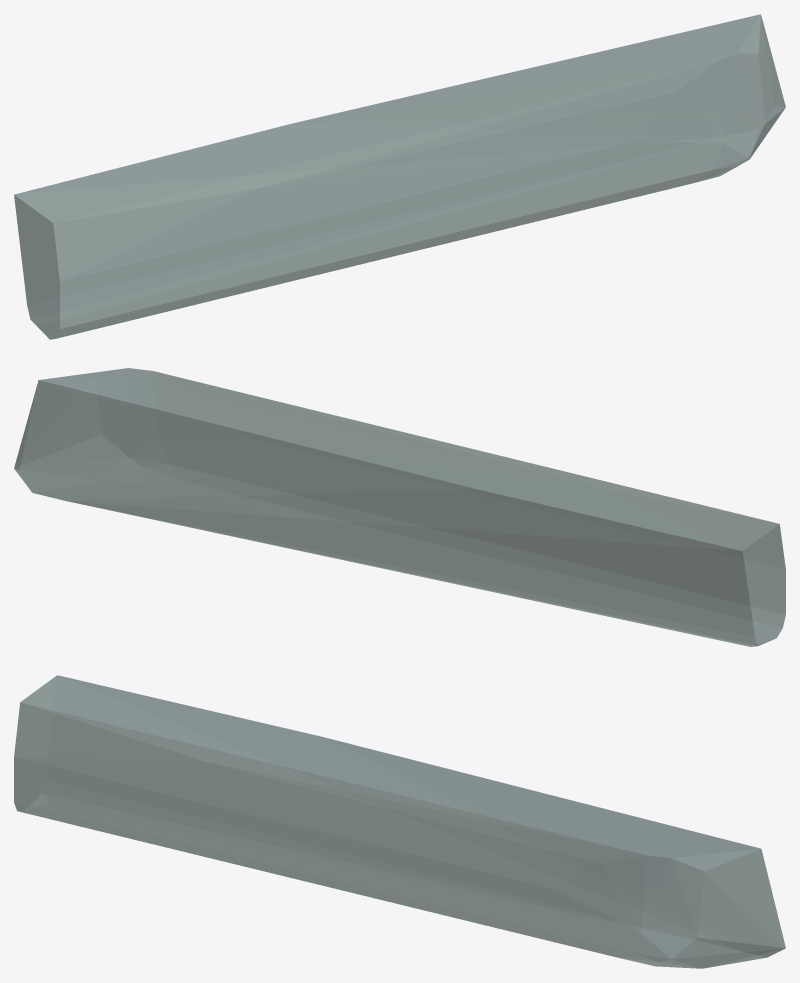
3 renders of one model, top to bottom at view 1: azimuth 30°, elevation 25°; view 2: azimuth 150°, elevation 25°; view 3: azimuth 330°, elevation 25°, orthographic. The views are drawn at different scales.
Visible parts, largest first — view 1: Shape_IndexedFaceSet.010_Shape_IndexedFaceSet.17694; view 2: Shape_IndexedFaceSet.010_Shape_IndexedFaceSet.17694; view 3: Shape_IndexedFaceSet.010_Shape_IndexedFaceSet.17694.
Part boxes in pixels (x1,y1,x2,y2): Shape_IndexedFaceSet.010_Shape_IndexedFaceSet.17694: [14, 14, 785, 339]; Shape_IndexedFaceSet.010_Shape_IndexedFaceSet.17694: [14, 368, 785, 646]; Shape_IndexedFaceSet.010_Shape_IndexedFaceSet.17694: [14, 675, 785, 968].
Bounding box in the file's own units: 0.3548 × 0.0522 × 0.0391.
